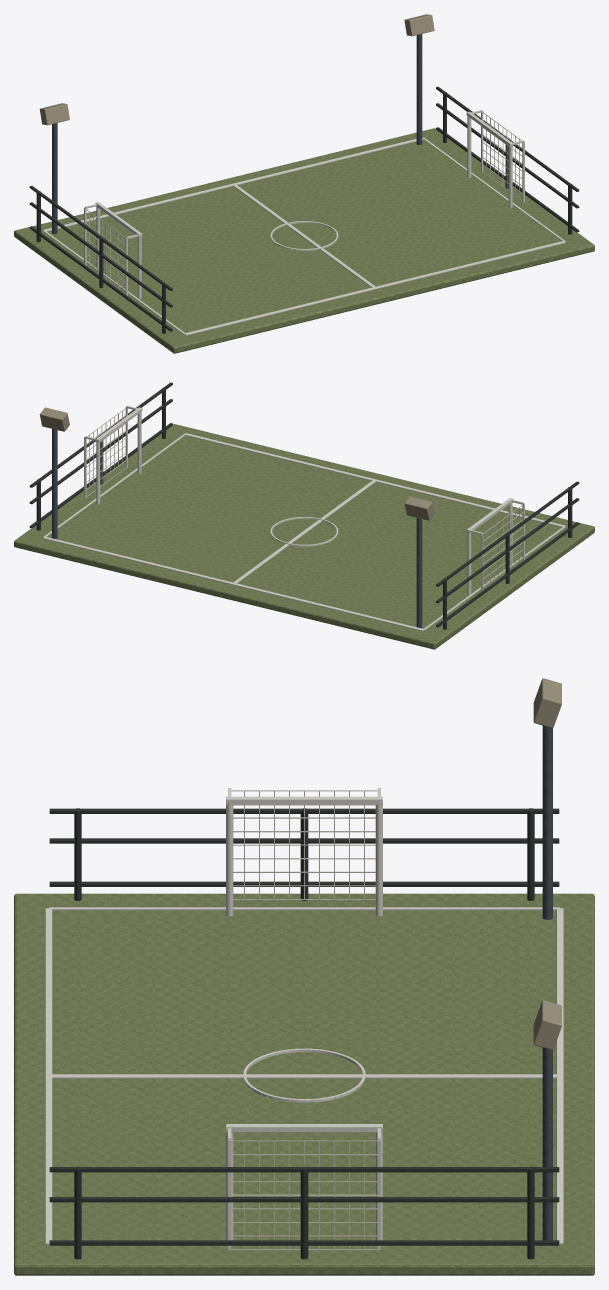
File: SPORT_FOOTBALL_3x2_001.glb
3 renders of one model, top to bottom at view 1: azimuth 30°, elevation 25°; view 2: azimuth 150°, elevation 25°; view 3: azimuth 270°, elevation 25°, orthographic. The views are drawn at different scales.
Parts seen in each view (by area): view 1: SPORT_FOOTBALL_3x2_001_Visual; view 2: SPORT_FOOTBALL_3x2_001_Visual; view 3: SPORT_FOOTBALL_3x2_001_Visual.
Part boxes in pixels (x1,y1,x2,y2): SPORT_FOOTBALL_3x2_001_Visual: (14, 14, 594, 353); SPORT_FOOTBALL_3x2_001_Visual: (14, 382, 594, 649); SPORT_FOOTBALL_3x2_001_Visual: (14, 678, 594, 1275).
Size of what is drawn, in the model's own units: 5.88 by 1.78 by 3.88.
Materials: 6 (2 with a texture image).
